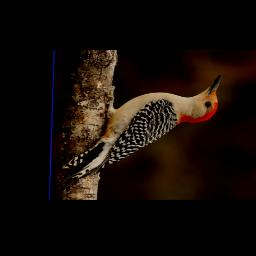Woodpecker: (55, 72, 222, 196)
